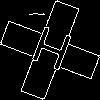H: (25, 25, 75, 80)
